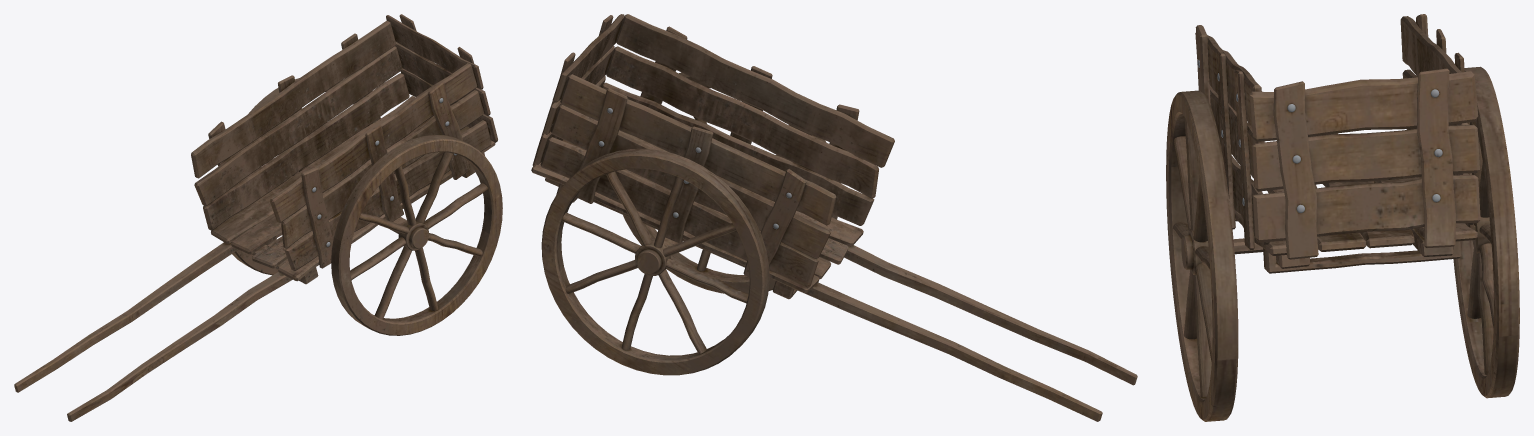
Rendered from Carro2.fbx.
The picture shows the model from 3 angles, left to right: view 1: azimuth 30°, elevation 25°; view 2: azimuth 150°, elevation 25°; view 3: azimuth 270°, elevation 25°; orthographic projection. The views are drawn at different scales.
Visible parts, largest first — view 1: Carro02; view 2: Carro02; view 3: Carro02.
Boxes of the visible parts, x1,y1,x2,y2 form: Carro02: (14,14,502,421); Carro02: (531,14,1137,421); Carro02: (1166,14,1519,421).
Bounding box in the file's own units: 484 × 242 × 201.
